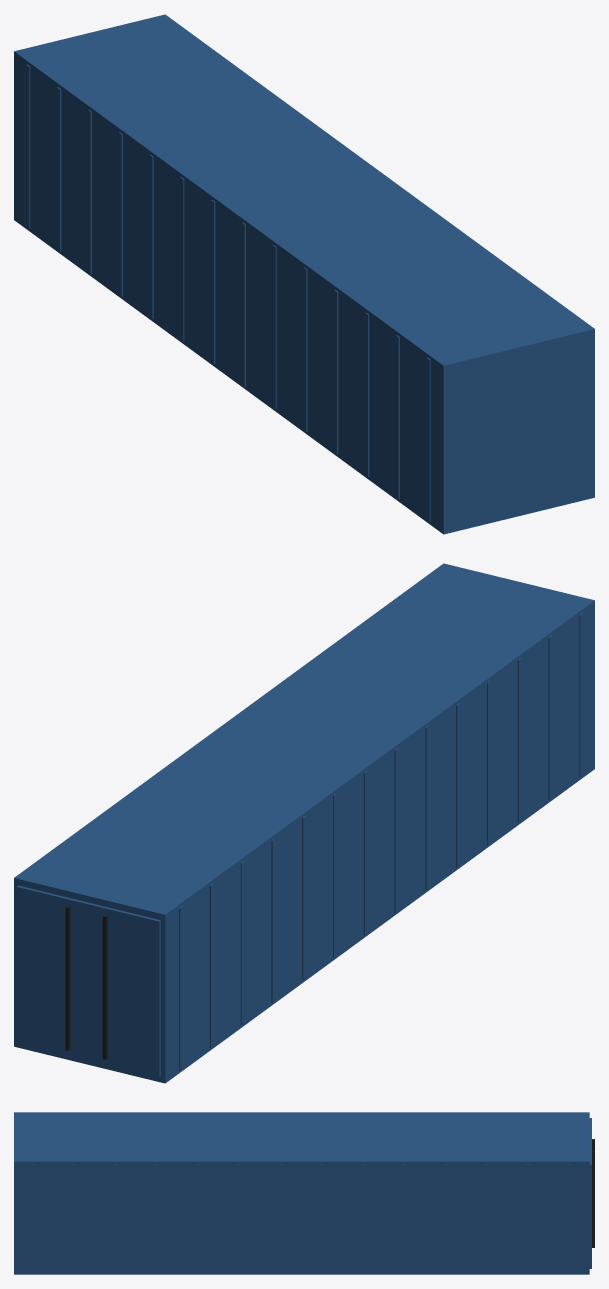
File: Container0.fbx
3 renders of one model, top to bottom at view 1: azimuth 30°, elevation 25°; view 2: azimuth 150°, elevation 25°; view 3: azimuth 270°, elevation 25°, orthographic. The views are drawn at different scales.
Visible parts, largest first — view 1: Box, Rib10, Rib13, Rib5, Rib8, Rib0, Rib12, Rib2, Rib3, Rib4, Rib7, Rib9; view 2: Box, Doors, Lock1, Lock-1, Rib0, Rib4, Rib6, Rib10, Rib11, Rib12, Rib2, Rib5 (+3 smaller); view 3: Box, Rib1, Rib12, Rib13, Rib2, Rib5, Rib6, Rib8, Rib9, Doors, Rib0, Rib10 (+5 smaller).
Boxes of the visible parts, bbox=[...] form: Box: bbox=[14, 14, 594, 534]; Rib10: bbox=[118, 132, 122, 296]; Rib13: bbox=[26, 64, 30, 228]; Rib5: bbox=[272, 245, 276, 409]; Rib8: bbox=[180, 177, 184, 341]; Rib0: bbox=[426, 357, 430, 521]; Rib12: bbox=[57, 87, 61, 251]; Rib2: bbox=[365, 312, 369, 476]; Rib3: bbox=[334, 290, 338, 454]; Rib4: bbox=[303, 267, 307, 431]; Rib7: bbox=[211, 200, 215, 364]; Rib9: bbox=[149, 154, 153, 319]; Box: bbox=[14, 563, 594, 1083]; Doors: bbox=[16, 885, 160, 1077]; Lock1: bbox=[65, 906, 70, 1050]; Lock-1: bbox=[102, 915, 107, 1059]; Rib0: bbox=[579, 613, 583, 777]; Rib4: bbox=[456, 703, 460, 867]; Rib6: bbox=[394, 748, 398, 912]; Rib10: bbox=[271, 838, 275, 1002]; Rib11: bbox=[240, 861, 244, 1025]; Rib12: bbox=[209, 883, 213, 1047]; Rib2: bbox=[517, 658, 521, 822]; Rib5: bbox=[425, 725, 429, 890]; Box: bbox=[14, 1112, 589, 1274]; Rib1: bbox=[72, 1164, 76, 1272]; Rib12: bbox=[526, 1164, 530, 1272]; Rib13: bbox=[567, 1164, 571, 1272]; Rib2: bbox=[113, 1164, 117, 1272]; Rib5: bbox=[237, 1164, 241, 1272]; Rib6: bbox=[278, 1164, 282, 1272]; Rib8: bbox=[361, 1164, 365, 1272]; Rib9: bbox=[402, 1164, 406, 1272]; Doors: bbox=[589, 1118, 591, 1268]; Rib0: bbox=[31, 1164, 34, 1272]; Rib10: bbox=[444, 1164, 447, 1272].
Size of the model in its own units: 248 by 1211 by 260.
